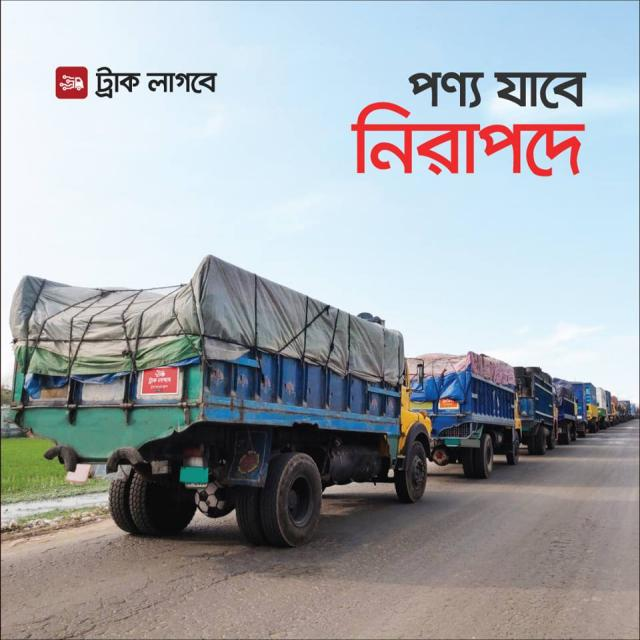truck: (2, 248, 430, 567), (425, 357, 522, 472), (520, 364, 562, 446), (558, 379, 583, 446), (584, 382, 602, 427), (602, 387, 614, 422)
